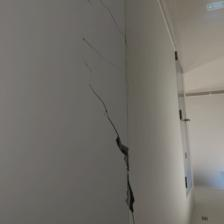Medium: (85, 89, 154, 221)
